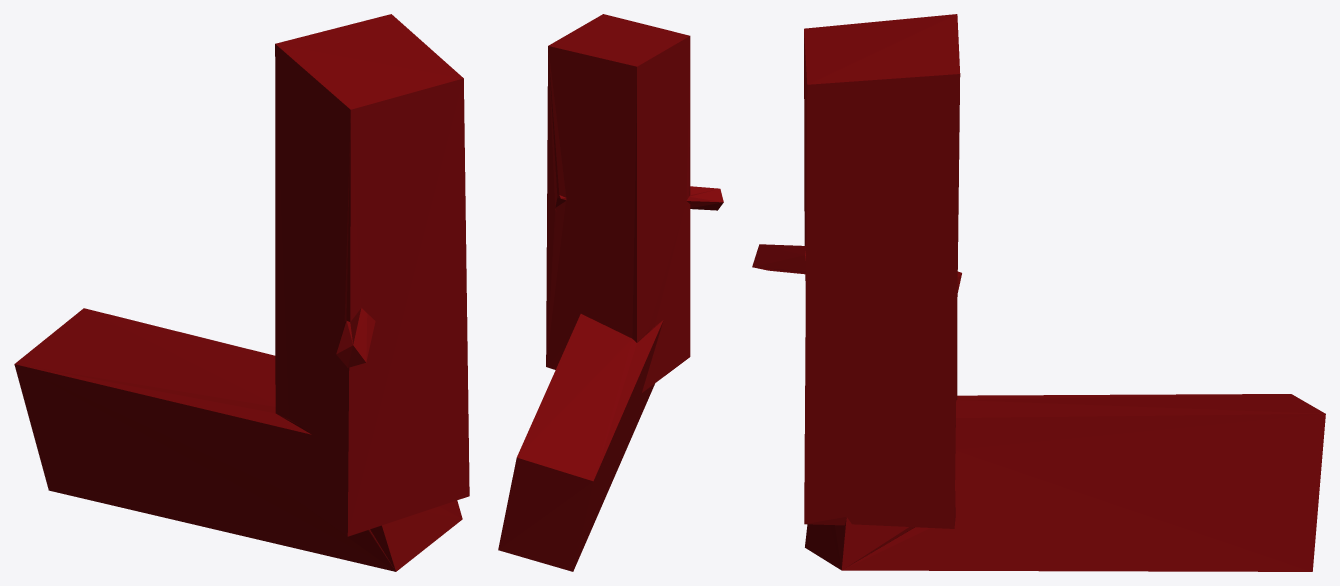
3 views of the same model, side by side, from view 1: azimuth 30°, elevation 25°; view 2: azimuth 150°, elevation 25°; view 3: azimuth 270°, elevation 25° (orthographic). The views are drawn at different scales.
Visible parts, largest first — view 1: 037_Cube.156; view 2: 037_Cube.156; view 3: 037_Cube.156.
Boxes of the visible parts, <box> form: 037_Cube.156: <box>14,14,469,571</box>; 037_Cube.156: <box>498,14,723,571</box>; 037_Cube.156: <box>752,14,1325,571</box>.
Size of the model in its own units: 6.82 by 15.17 by 13.87.
